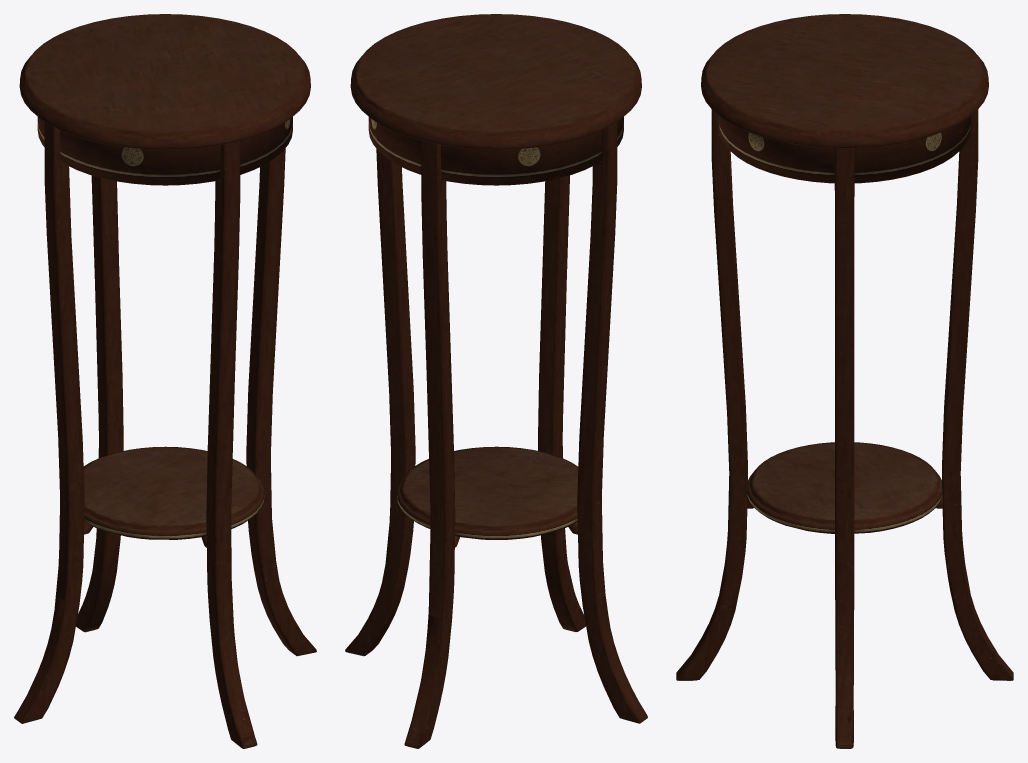
Rendered from side_table_tall_01.glb.
3 views of the same model, side by side, from view 1: azimuth 30°, elevation 25°; view 2: azimuth 150°, elevation 25°; view 3: azimuth 270°, elevation 25° (orthographic).
Parts seen in each view (by area): view 1: side_table_tall_01; view 2: side_table_tall_01; view 3: side_table_tall_01.
Boxes of the visible parts, x1,y1,x2,y2 form: side_table_tall_01: (14, 14, 316, 748); side_table_tall_01: (345, 14, 647, 748); side_table_tall_01: (676, 14, 1013, 748).
Size of the model in its own units: 0.384 by 0.7611 by 0.384.
1 material, 1 textured.
